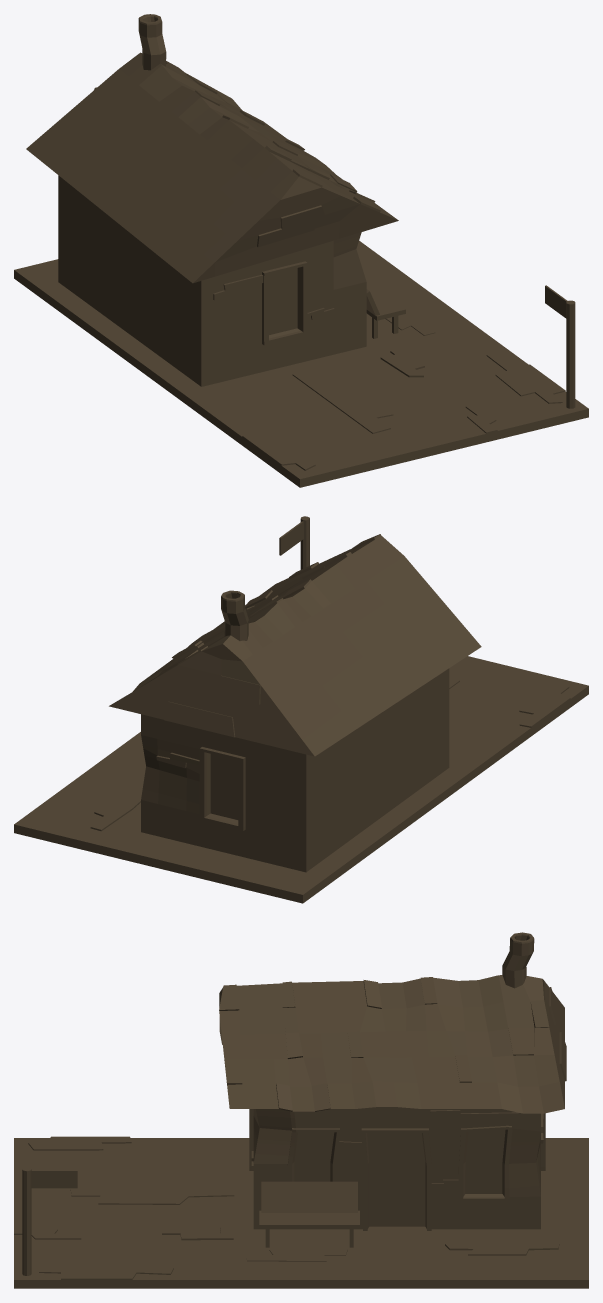
The model's file is Bahnhof.fbx.
The picture shows the model from 3 angles, top to bottom: view 1: azimuth 30°, elevation 25°; view 2: azimuth 150°, elevation 25°; view 3: azimuth 270°, elevation 25°; orthographic projection.
Parts seen in each view (by area): view 1: Bahnhof; view 2: Bahnhof; view 3: Bahnhof.
Part boxes in pixels (box(x1,y1,x2,y2)): Bahnhof: box(14, 14, 588, 487); Bahnhof: box(14, 516, 588, 903); Bahnhof: box(14, 932, 588, 1288).
Size of the model in its own units: 700 by 599 by 1200.
